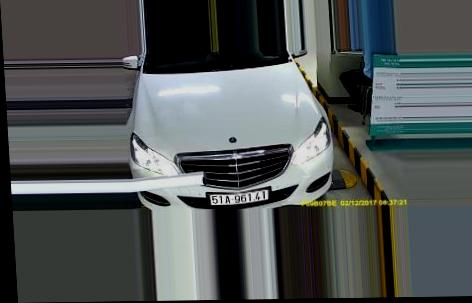License_Plate: (205, 188, 270, 208)
